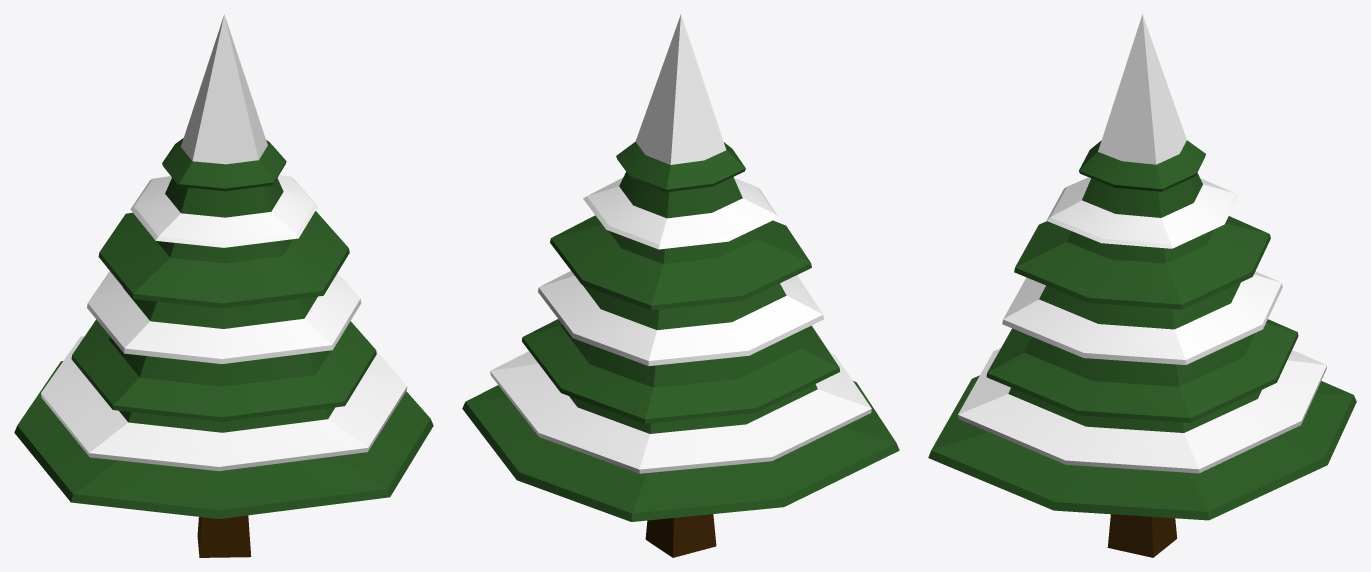
File: green_tree_snow3.glb
The picture shows the model from 3 angles, left to right: view 1: azimuth 30°, elevation 25°; view 2: azimuth 150°, elevation 25°; view 3: azimuth 270°, elevation 25°; orthographic projection.
Visible parts, largest first — view 1: Tree012_Green011_0, Tree012_White1_0, Tree012_Brown06_0; view 2: Tree012_Green011_0, Tree012_White1_0, Tree012_Brown06_0; view 3: Tree012_Green011_0, Tree012_White1_0, Tree012_Brown06_0.
Boxes of the visible parts, bbox=[...] form: Tree012_Green011_0: bbox=[14, 138, 433, 518]; Tree012_White1_0: bbox=[41, 14, 407, 471]; Tree012_Brown06_0: bbox=[197, 515, 251, 557]; Tree012_Green011_0: bbox=[462, 141, 899, 521]; Tree012_White1_0: bbox=[490, 14, 871, 473]; Tree012_Brown06_0: bbox=[645, 514, 716, 557]; Tree012_Green011_0: bbox=[928, 140, 1356, 520]; Tree012_White1_0: bbox=[958, 14, 1326, 473]; Tree012_Brown06_0: bbox=[1107, 514, 1177, 557].
Bounding box in the file's own units: 5.92 × 8.06 × 5.92.
